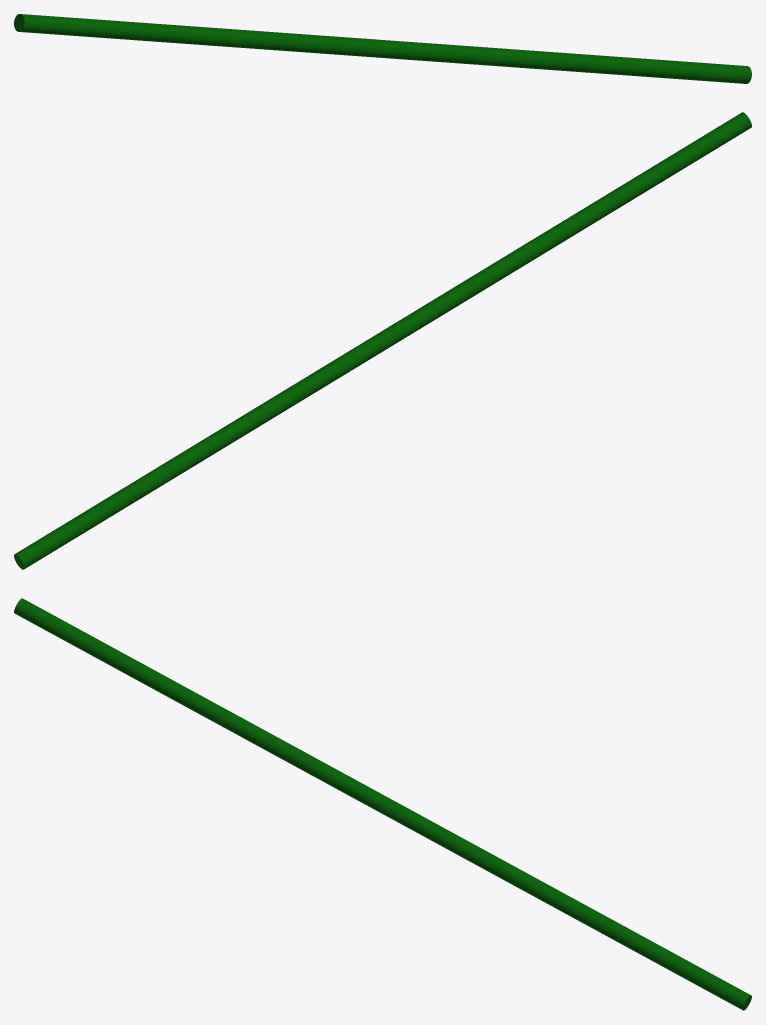
The model's file is Event_105485643_jet_5.fbx.
The picture shows the model from 3 angles, top to bottom: view 1: azimuth 30°, elevation 25°; view 2: azimuth 210°, elevation 25°; view 3: azimuth 330°, elevation 25°; orthographic projection. The views are drawn at different scales.
Parts seen in each view (by area): view 1: Model; view 2: Model; view 3: Model.
Part boxes in pixels (x1,y1,x2,y2): Model: (14,14,751,83); Model: (14,112,751,569); Model: (14,598,751,1010).
Size of the model in its own units: 1.92 by 0.6433 by 0.1191.
